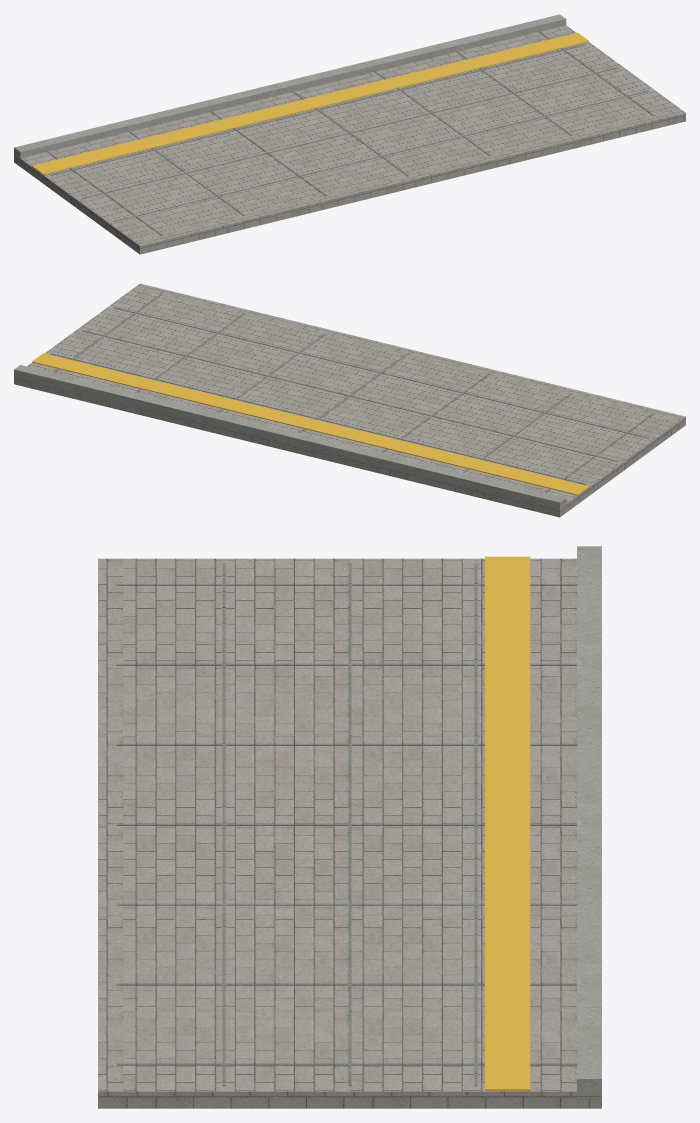
The model's file is sidewalk_10m.glb.
3 views of the same model, one above another, from view 1: azimuth 30°, elevation 25°; view 2: azimuth 150°, elevation 25°; view 3: azimuth 270°, elevation 25° (orthographic). The views are drawn at different scales.
Parts seen in each view (by area): view 1: sidewalk_10m; view 2: sidewalk_10m; view 3: sidewalk_10m.
Part boxes in pixels (bbox=[...]): sidewalk_10m: bbox=[14, 14, 685, 254]; sidewalk_10m: bbox=[14, 283, 685, 517]; sidewalk_10m: bbox=[98, 546, 601, 1108].
Size of the model in its own units: 10 by 0.26 by 4.
